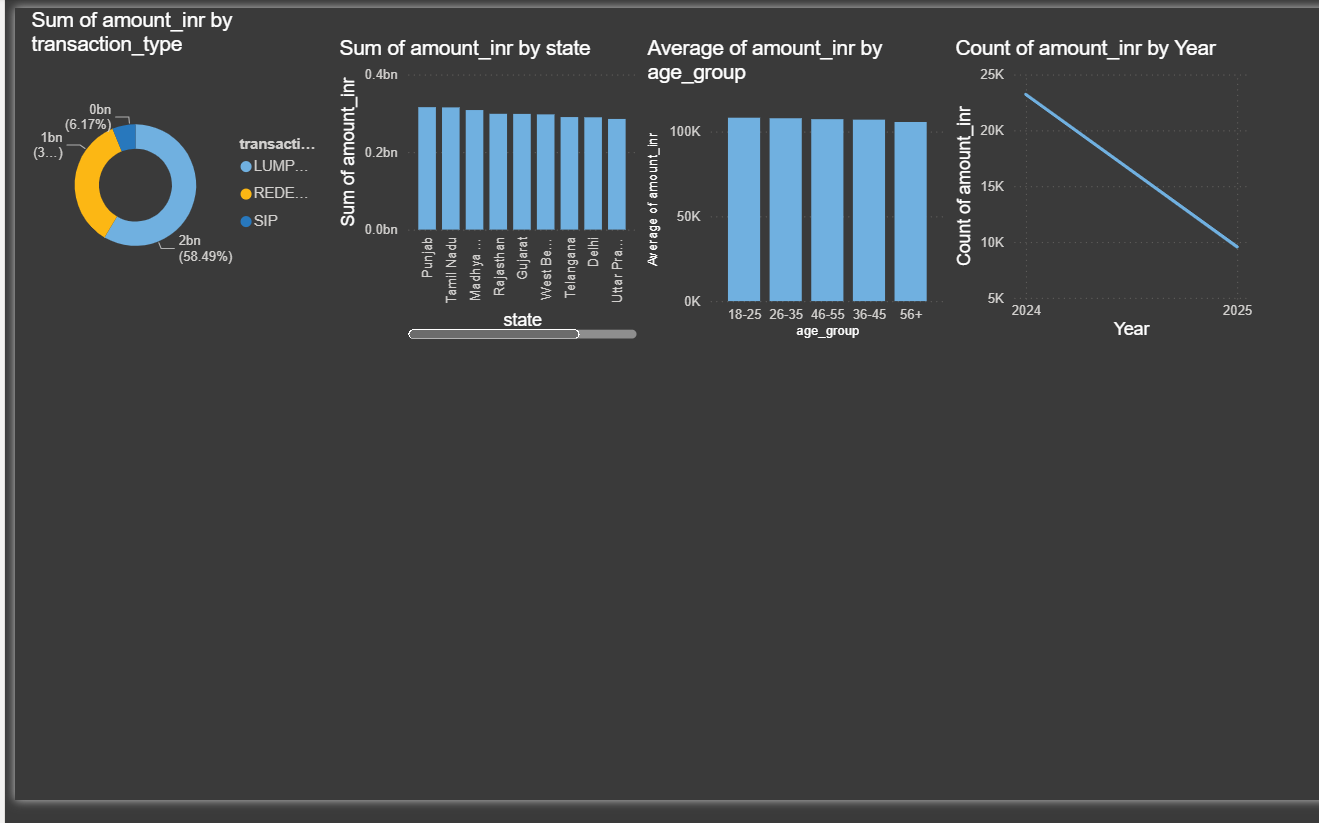

This screenshot's page, from the dashboard's own definition file:
{"tool":"powerbi","page":{"name":"Investor Analytics","canvas":[1280,720],"ordinal":2},"visuals":[{"type":"donutChart","fields":{"Category":["clean_investor_transactions.transaction_type"],"Y":["Sum(clean_investor_transactions.amount_inr)"]},"box":[10,0,280,280],"z":0},{"type":"clusteredColumnChart","fields":{"Category":["clean_investor_transactions.state"],"Y":["Sum(clean_investor_transactions.amount_inr)"]},"box":[290,25.5,280,280],"z":1000},{"type":"columnChart","fields":{"Y":["Avg(clean_investor_transactions.amount_inr)"],"Category":["clean_investor_transactions.age_group"]},"box":[570,25.5,280,280],"z":2000},{"type":"lineChart","fields":{"Category":["clean_investor_transactions.transaction_date.Variation.Date Hierarchy.Year","clean_investor_transactions.transaction_date.Variation.Date Hierarchy.Quarter","clean_investor_transactions.transaction_date.Variation.Date Hierarchy.Month","clean_investor_transactions.transaction_date.Variation.Date Hierarchy.Day"],"Y":["CountNonNull(clean_investor_transactions.amount_inr)"]},"box":[850,25.5,280,280],"z":3000}]}

Visuals, with their boxes on the page's 1280x720 design canvas (x1, y1, x2, y2). These are canvas units, not pixel positions in the 1319x823 screenshot, which may show the page scaled, cropped or inside an application window:
donutChart - clean_investor_transactions.transaction_type x Sum(clean_investor_transactions.amount_inr): (10,0,290,280)
clusteredColumnChart - clean_investor_transactions.state x Sum(clean_investor_transactions.amount_inr): (290,26,570,306)
columnChart - Avg(clean_investor_transactions.amount_inr) x clean_investor_transactions.age_group: (570,26,850,306)
lineChart - clean_investor_transactions.transaction_date.Variation.Date Hierarchy.Year x clean_investor_transactions.transaction_date.Variation.Date Hierarchy.Quarter: (850,26,1130,306)
